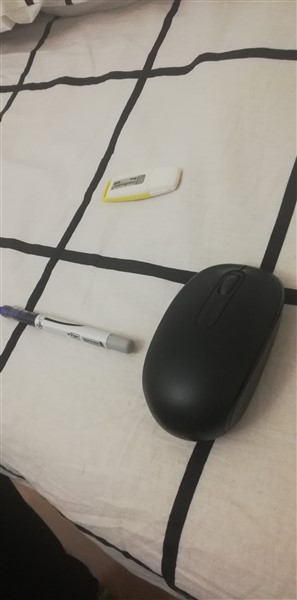flash disk: (99, 165, 185, 204)
mouse: (138, 248, 288, 446)
pilot kalem: (1, 300, 136, 359)
